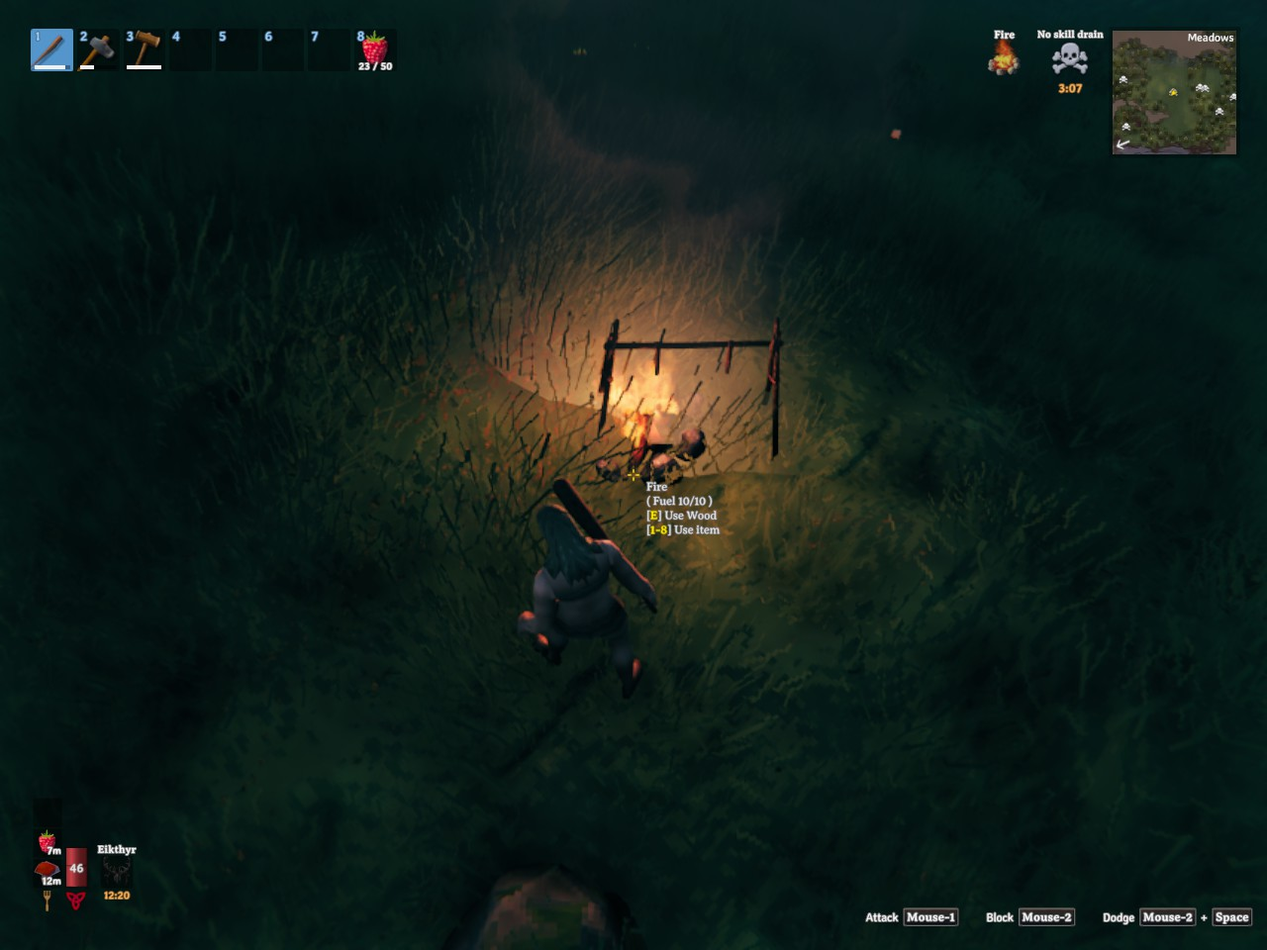Cook Station: (562, 317, 797, 482)
